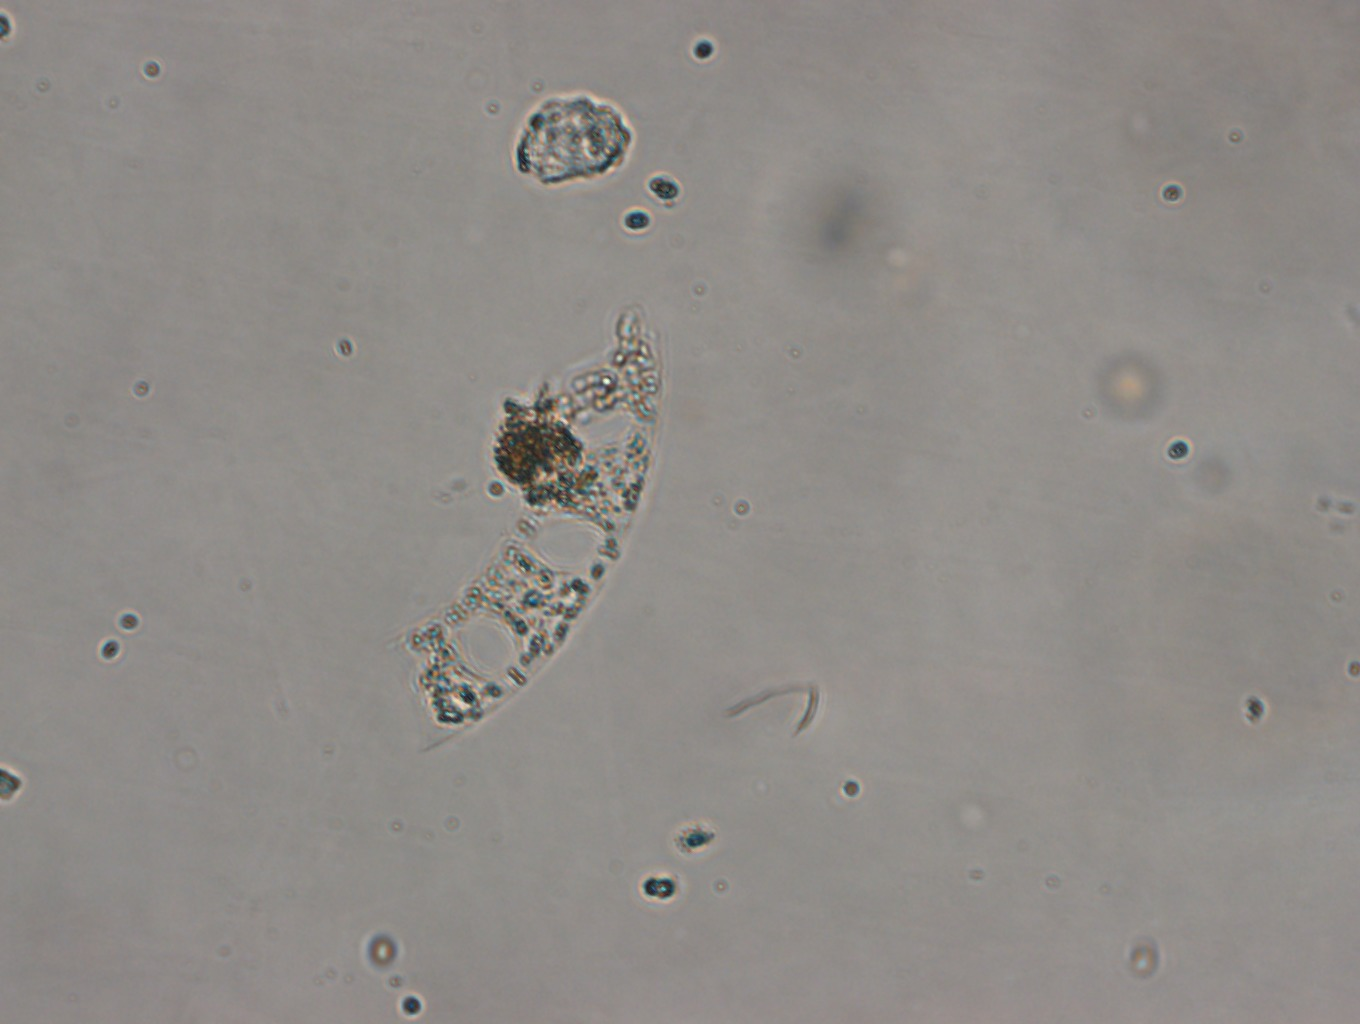eucampia: (377, 322, 674, 737)
